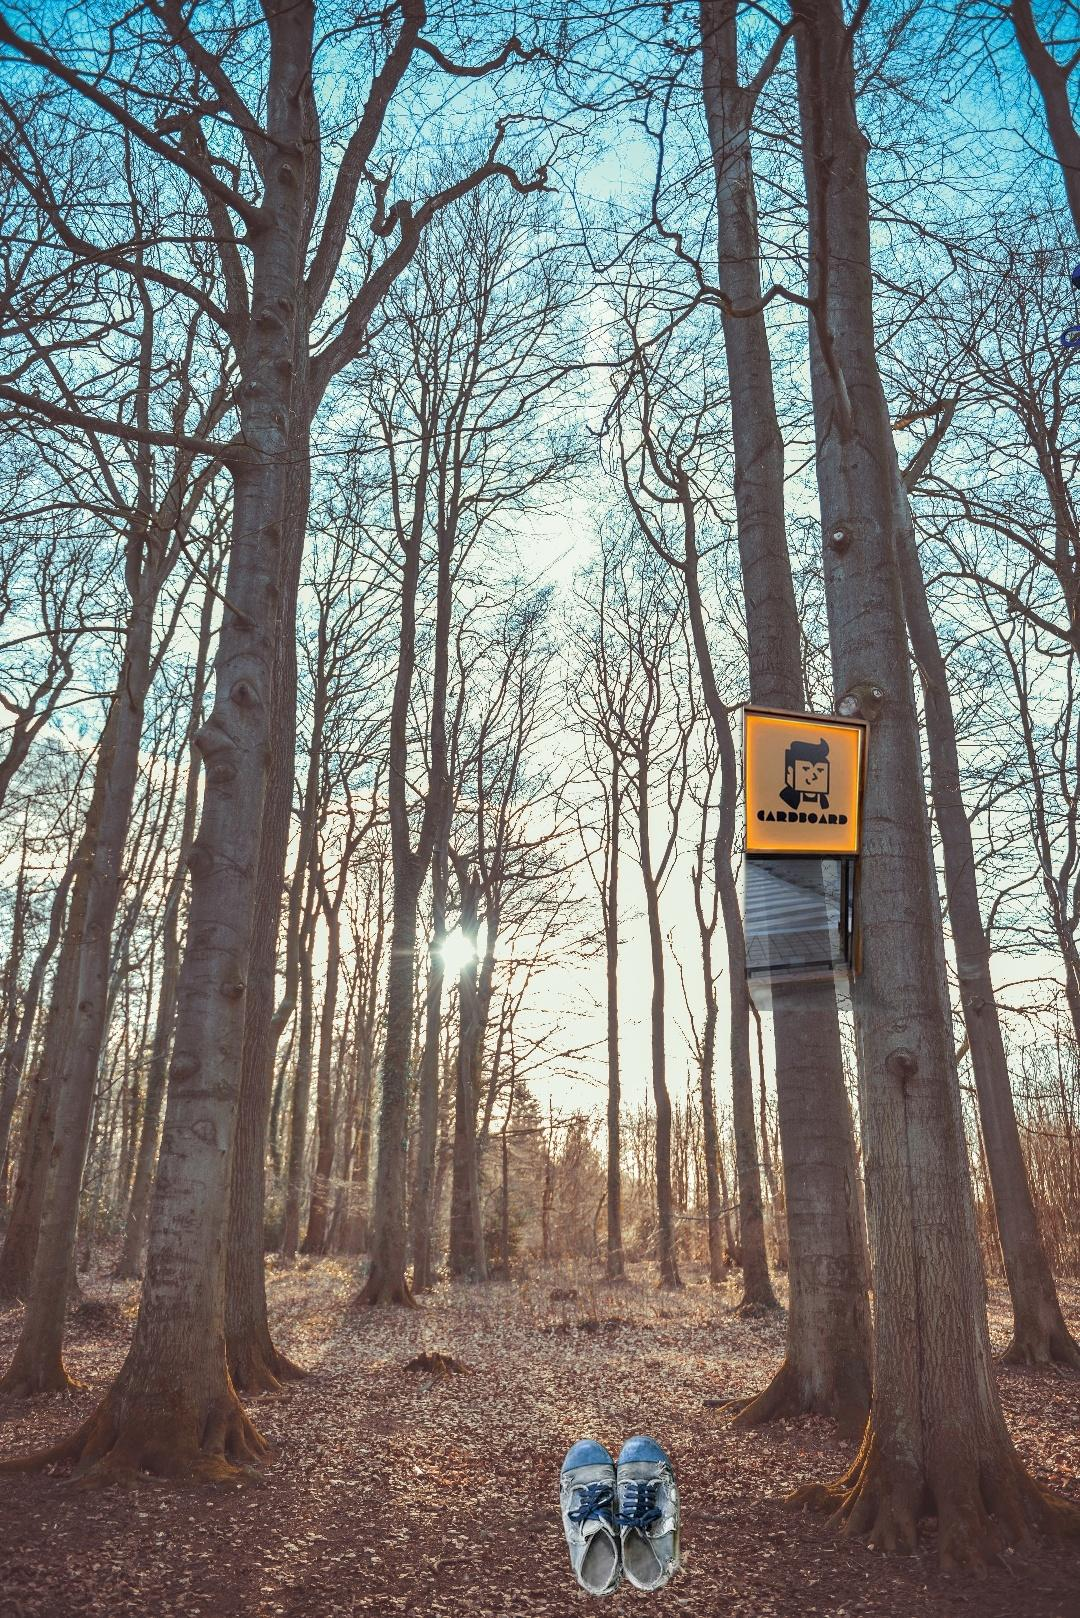shoes: (556, 1432, 687, 1602)
trash: (1057, 204, 1080, 380)
trashbox-cardboard: (717, 681, 910, 1011)
